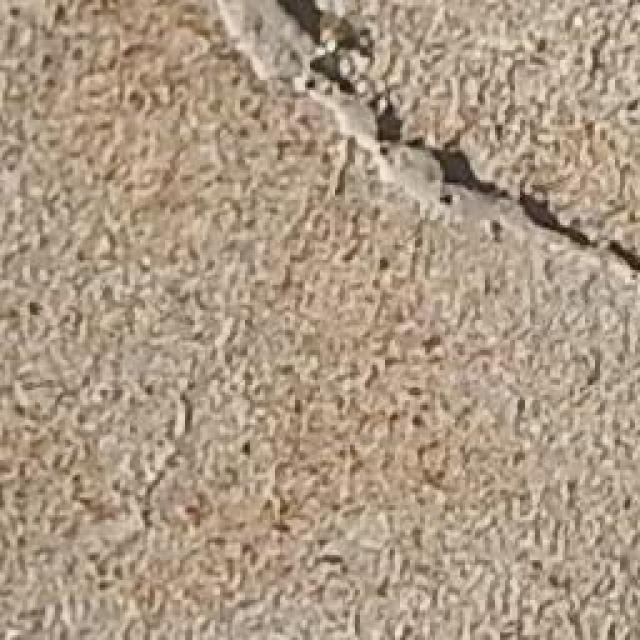concrete-crack: (207, 0, 640, 286)
